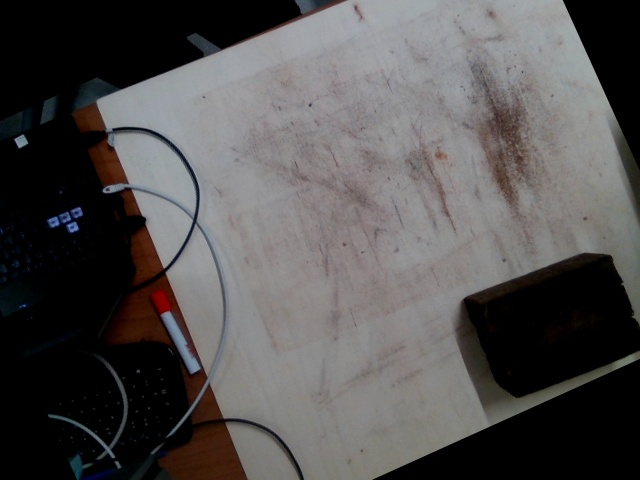brick-side: (481, 255, 618, 334), (497, 286, 634, 364), (511, 318, 639, 397)
